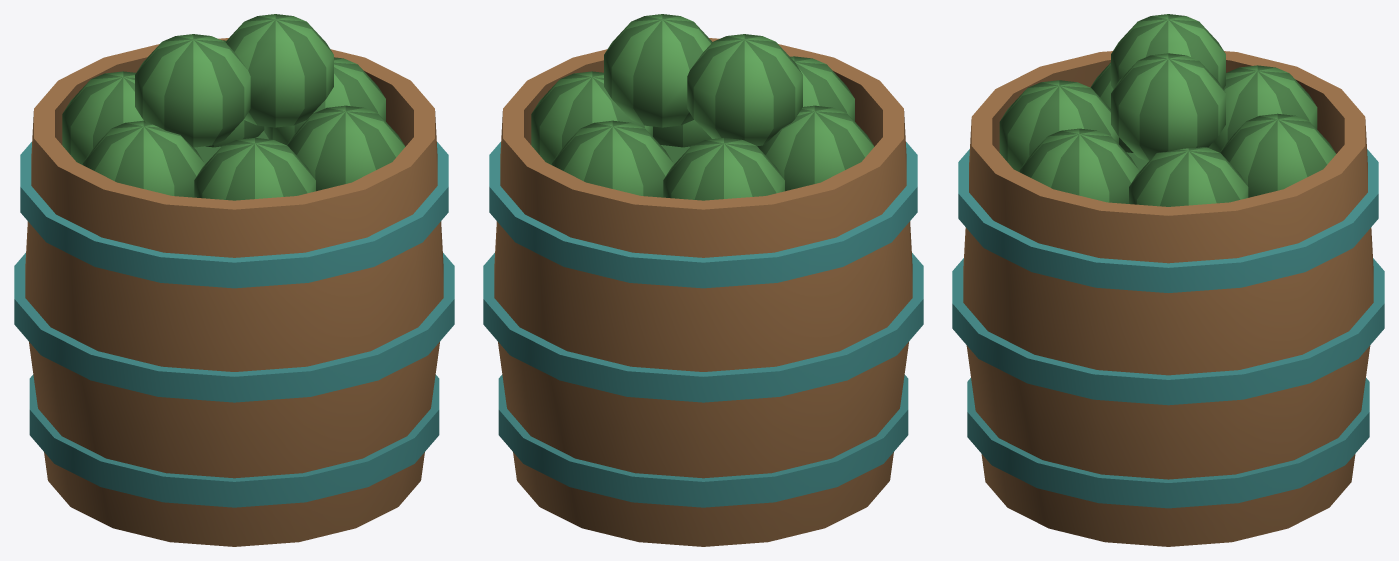
Rendered from ProduceBin_Round_01_Melons.glb.
3 renders of one model, left to right at view 1: azimuth 30°, elevation 25°; view 2: azimuth 150°, elevation 25°; view 3: azimuth 270°, elevation 25°, orthographic.
Parts seen in each view (by area): view 1: SM_ProduceBin_Round_01_Melons; view 2: SM_ProduceBin_Round_01_Melons; view 3: SM_ProduceBin_Round_01_Melons.
Part boxes in pixels (x1,y1,x2,y2): SM_ProduceBin_Round_01_Melons: (14, 14, 454, 546); SM_ProduceBin_Round_01_Melons: (483, 14, 923, 546); SM_ProduceBin_Round_01_Melons: (952, 14, 1384, 546).
Size of the model in its own units: 0.944 by 1.02 by 0.9297.
1 material, 1 textured.
